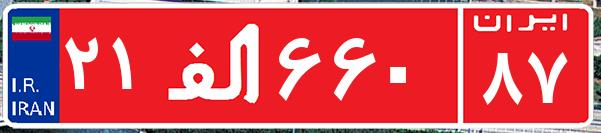0: (385, 28, 445, 110)
1: (110, 28, 158, 105)
2: (57, 26, 110, 107)
6: (273, 28, 330, 110), (330, 28, 385, 110)
7: (525, 38, 570, 115)
8: (475, 38, 525, 113)
الف: (158, 15, 273, 115)
